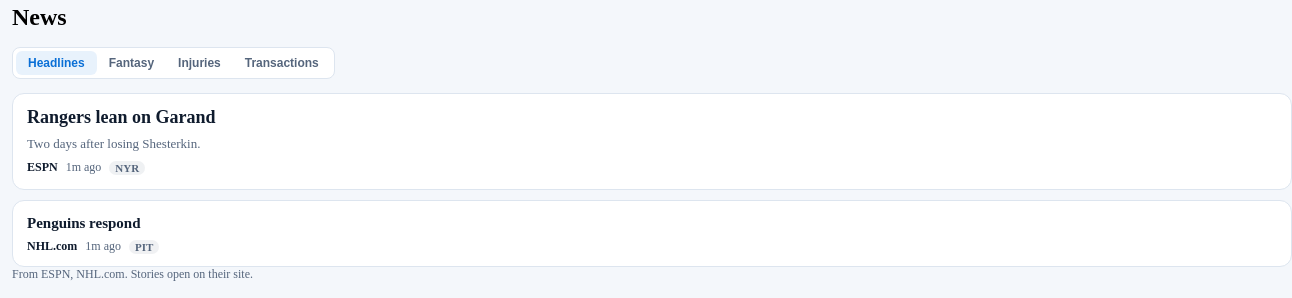
it: News › shows transactions
The image size is (1292, 298).
Click the button "Transactions" at {"x": 282, "y": 63}, box [233,51,331,75]
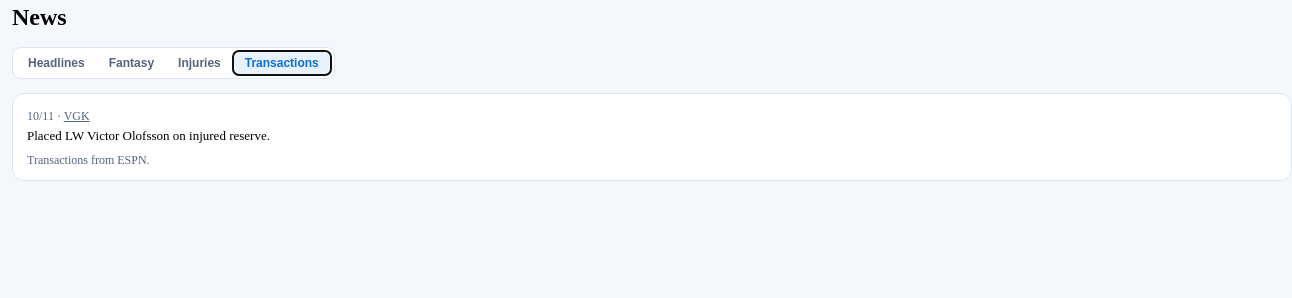
Result: the text "Placed LW Victor Olofsson on injured reserve." is shown at [27,128,270,143]
